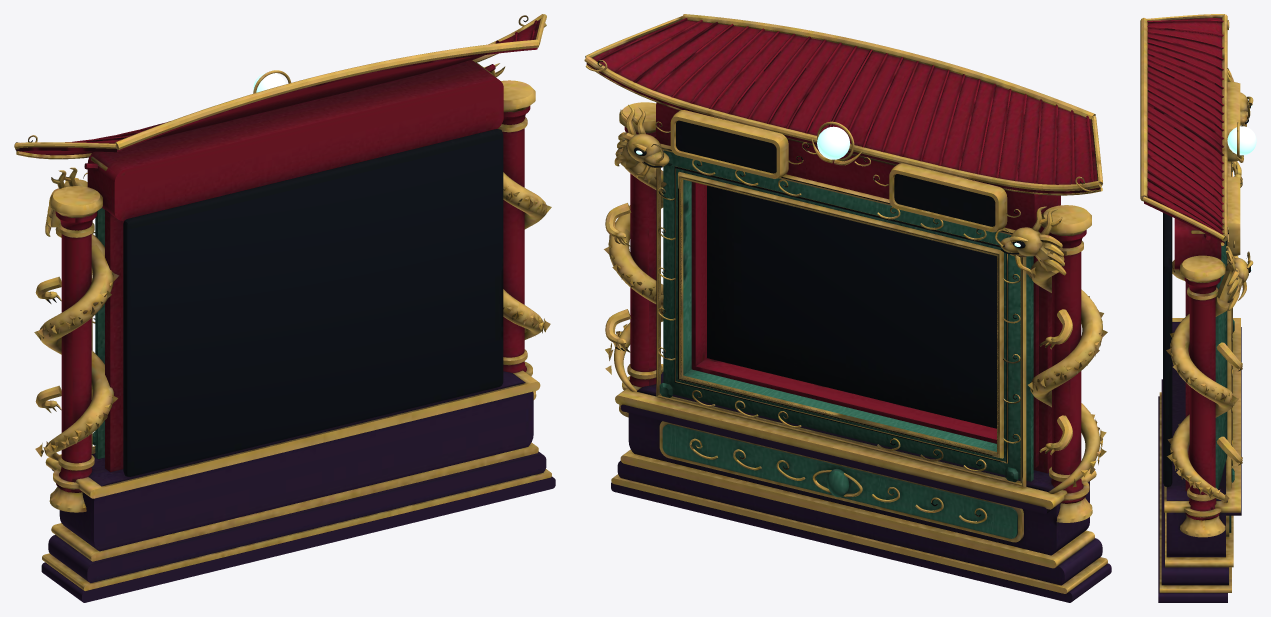
3 views of the same model, side by side, from view 1: azimuth 30°, elevation 25°; view 2: azimuth 150°, elevation 25°; view 3: azimuth 270°, elevation 25° (orthographic). The views are drawn at different scales.
Visible parts, largest first — view 1: Uniform_ink_inset, Imperial_red_lacquer, Violet_lacquer, Imperial_polished_gold, Quiet_carved_nephrite; view 2: Imperial_polished_gold, Imperial_red_lacquer, Uniform_ink_inset, Quiet_carved_nephrite, Violet_lacquer, Jade_pearl_and_eyes_glow; view 3: Imperial_red_lacquer, Imperial_polished_gold, Violet_lacquer, Uniform_ink_inset, Quiet_carved_nephrite, Jade_pearl_and_eyes_glow.
Part boxes in pixels (x1,y1,x2,y2): Uniform_ink_inset: [123, 129, 503, 476]; Imperial_red_lacquer: [16, 19, 540, 492]; Violet_lacquer: [41, 371, 555, 602]; Imperial_polished_gold: [14, 14, 551, 590]; Quiet_carved_nephrite: [92, 208, 104, 458]; Imperial_polished_gold: [584, 14, 1107, 593]; Imperial_red_lacquer: [586, 18, 1100, 503]; Uniform_ink_inset: [634, 120, 1025, 428]; Quiet_carved_nephrite: [659, 150, 1033, 538]; Violet_lacquer: [611, 372, 1111, 602]; Jade_pearl_and_eyes_glow: [636, 126, 1020, 246]; Imperial_red_lacquer: [1144, 18, 1224, 520]; Imperial_polished_gold: [1140, 14, 1253, 592]; Violet_lacquer: [1158, 322, 1241, 602]; Uniform_ink_inset: [1163, 100, 1250, 487]; Quiet_carved_nephrite: [1215, 241, 1234, 532]; Jade_pearl_and_eyes_glow: [1227, 105, 1256, 270].
Bounding box in the file's own units: 11.18 × 9.6 × 2.46.
6 materials, 5 textured.
